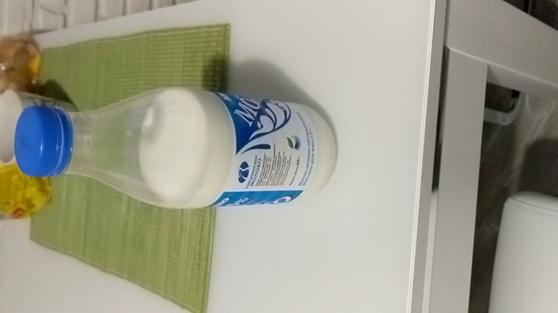milk: (14, 88, 343, 228)
